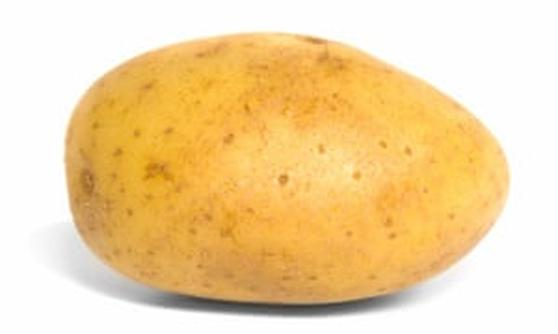potato: (65, 23, 520, 308)
